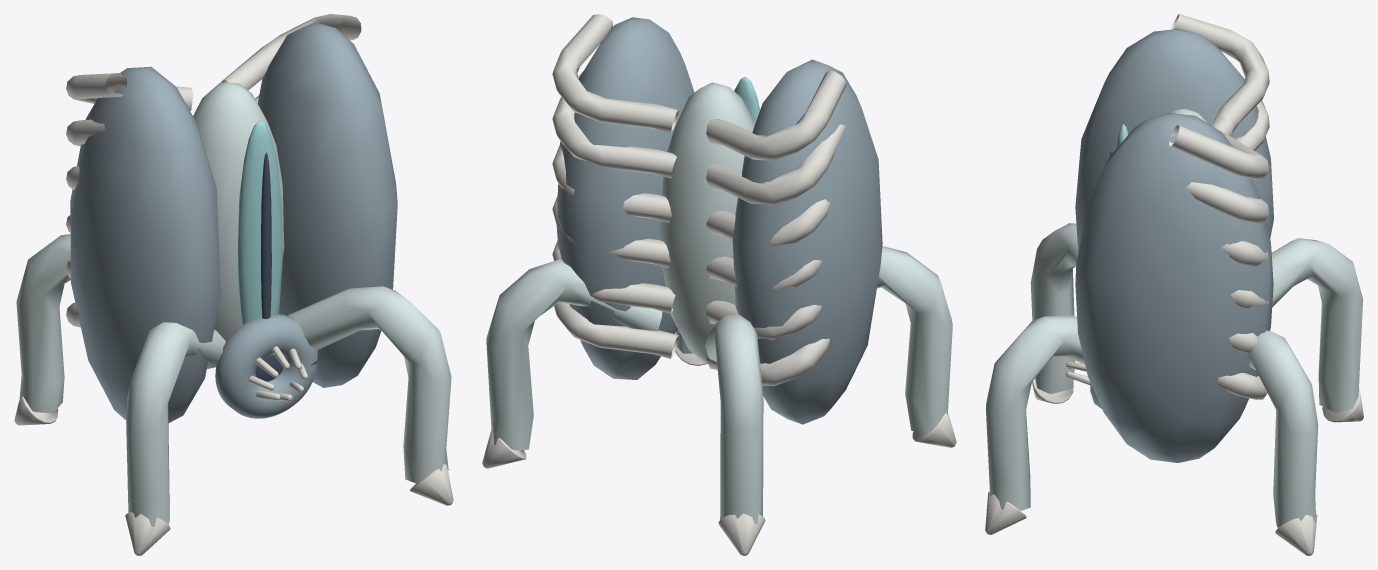
The model's file is bio_window_sac_04_far.glb.
3 renders of one model, left to right at view 1: azimuth 30°, elevation 25°; view 2: azimuth 150°, elevation 25°; view 3: azimuth 270°, elevation 25°, orthographic. The views are drawn at different scales.
Visible parts, largest first — view 1: Separated curved shell, Crooked support.003, Crooked support.002, Internal receptor sac, Crooked support.001, Raised oral lip, Single vertical photoreceptor, Shell window buttress, Long internal pupil, Inward tooth, Contact spur.002, Contact spur.003 (+1 smaller); view 2: Separated curved shell, Shell window buttress, Internal receptor sac, Crooked support, Crooked support.001, Crooked support.002, Contact spur.001, Contact spur, Contact spur.002, Single vertical photoreceptor; view 3: Separated curved shell, Shell window buttress, Crooked support.003, Crooked support.001, Crooked support, Crooked support.002, Contact spur, Contact spur.003, Contact spur.001.
Boxes of the visible parts, x1,y1,x2,y2 form: Separated curved shell: (70,22,397,422); Crooked support.003: (288,286,451,483); Crooked support.002: (126,322,225,526); Internal receptor sac: (193,82,284,341); Crooked support.001: (16,234,70,413); Raised oral lip: (215,314,318,418); Single vertical photoreceptor: (237,120,282,325); Shell window buttress: (66,14,361,327); Long internal pupil: (261,152,271,318); Inward tooth: (249,346,307,401); Contact spur.002: (125,512,170,555); Contact spur.003: (410,464,453,505); Separated curved shell: (556,17,882,424); Shell window buttress: (552,14,846,386); Internal receptor sac: (659,82,754,363); Crooked support: (486,259,662,450); Crooked support.001: (705,314,763,523); Crooked support.002: (877,246,952,431); Contact spur.001: (718,513,765,555); Contact spur: (482,428,526,468); Contact spur.002: (912,412,956,447); Single vertical photoreceptor: (734,76,759,124); Separated curved shell: (1075,29,1273,462); Shell window buttress: (1169,14,1269,399); Crooked support.003: (986,315,1084,510); Crooked support.001: (1271,238,1362,413); Crooked support: (1248,330,1318,527); Crooked support.002: (1030,223,1078,394); Contact spur: (1275,514,1317,555); Contact spur.003: (985,491,1026,534); Contact spur.001: (1322,388,1363,422).
Bounding box in the file's own units: 1.71 × 2.03 × 1.71.
